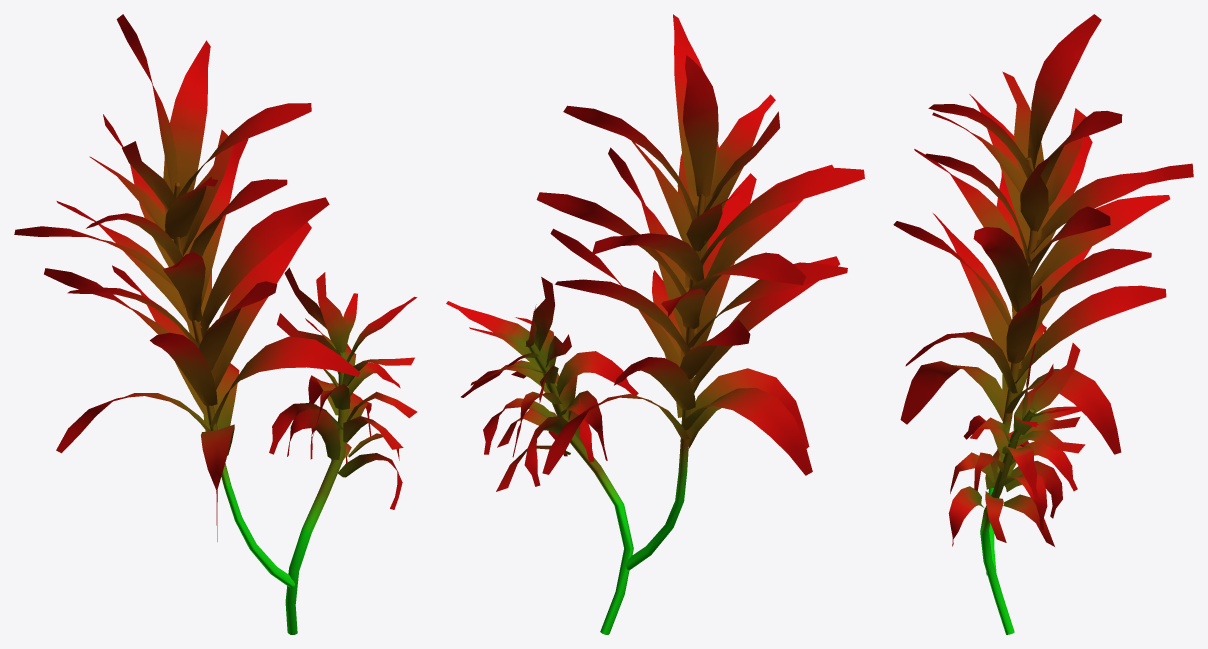
The model's file is Dragon Tree_LOD0_Var2_siumT.fbx.
The picture shows the model from 3 angles, left to right: view 1: azimuth 30°, elevation 25°; view 2: azimuth 150°, elevation 25°; view 3: azimuth 270°, elevation 25°; orthographic projection. The views are drawn at different scales.
Parts seen in each view (by area): view 1: _d9f0_Var2_LOD0; view 2: _d9f0_Var2_LOD0; view 3: _d9f0_Var2_LOD0.
Part boxes in pixels (box(x1,y1,x2,y2)): _d9f0_Var2_LOD0: box(14, 14, 417, 634); _d9f0_Var2_LOD0: box(446, 14, 864, 634); _d9f0_Var2_LOD0: box(893, 14, 1193, 634).
Bounding box in the file's own units: 69.03 × 109 × 52.66.
